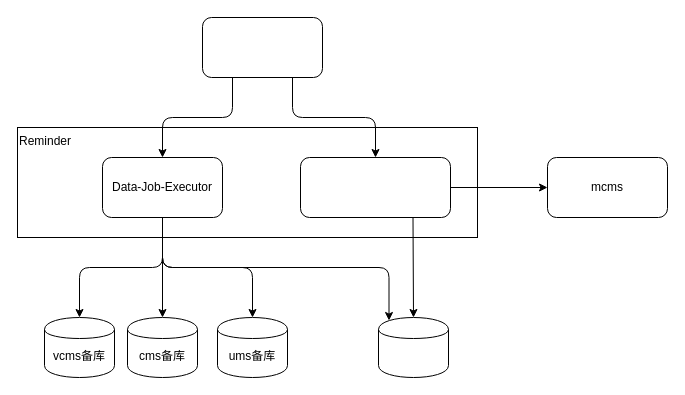
This 685x395 diagram has some shape labels left out. The centre of each missing label's shape, as x and y in pixels:
"Job-admin" belongs at pixel 262 47.
"Msg-Push-Job-Executor" belongs at pixel 375 187.
"Reminder DB" belongs at pixel 413 347.
